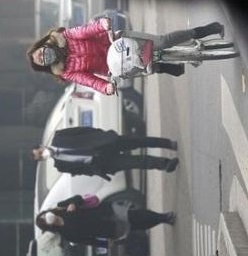person: (25, 16, 224, 96), (29, 126, 181, 181), (33, 194, 179, 246)
